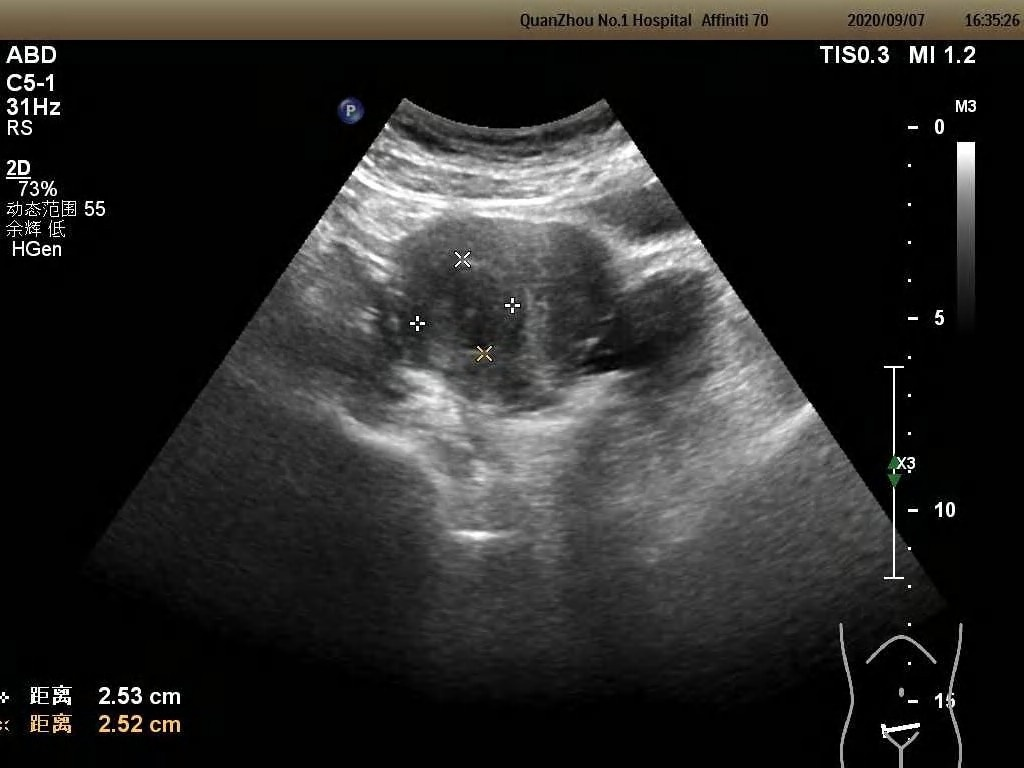肌瘤: (422, 278, 501, 346)
